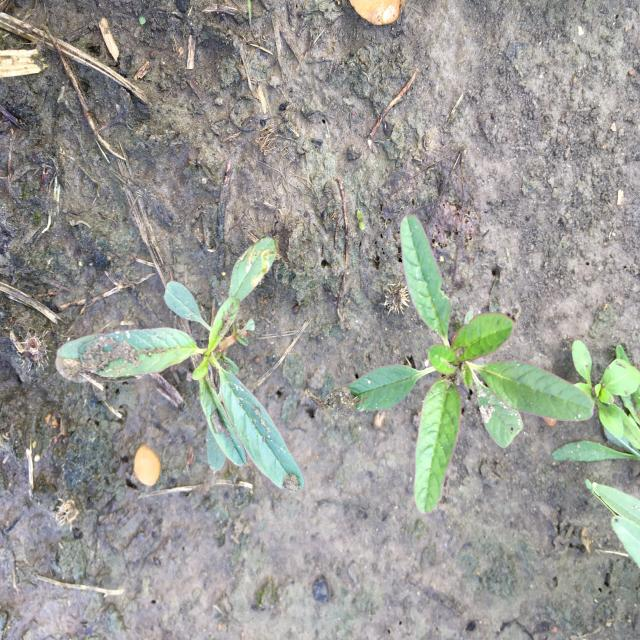Waterhemp: (343, 213, 596, 518), (52, 235, 306, 495)
